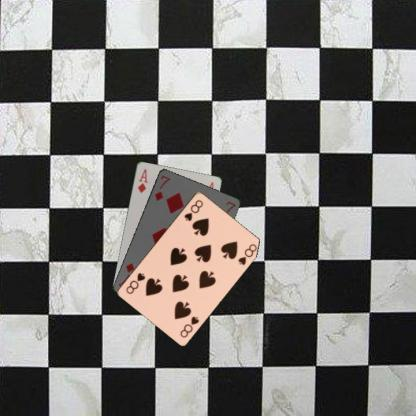7d: (152, 172, 171, 202)
8s: (181, 197, 204, 222), (178, 313, 200, 339)
Ad: (134, 166, 148, 194)
